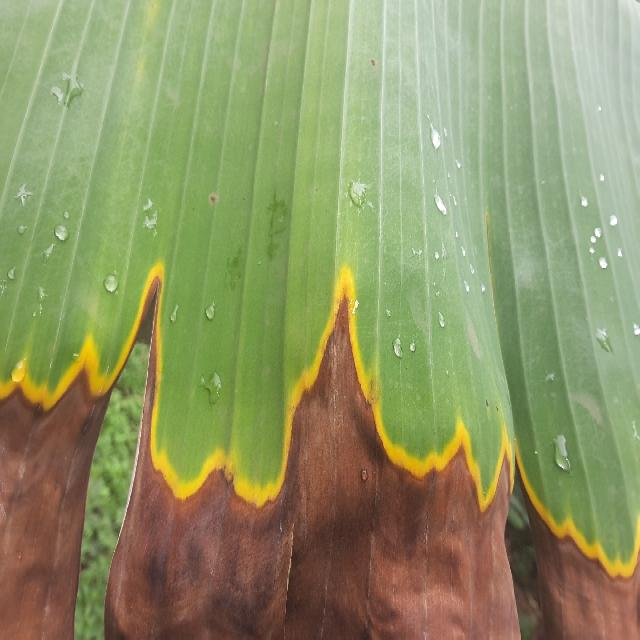Cordana: (0, 240, 640, 592)
